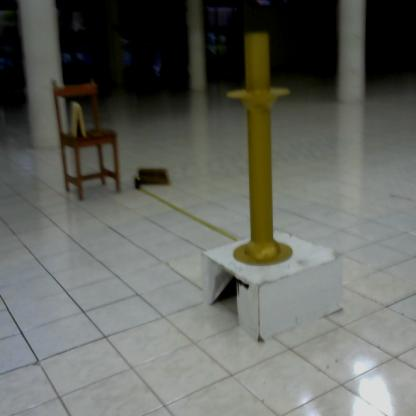pole: (227, 30, 298, 272)
